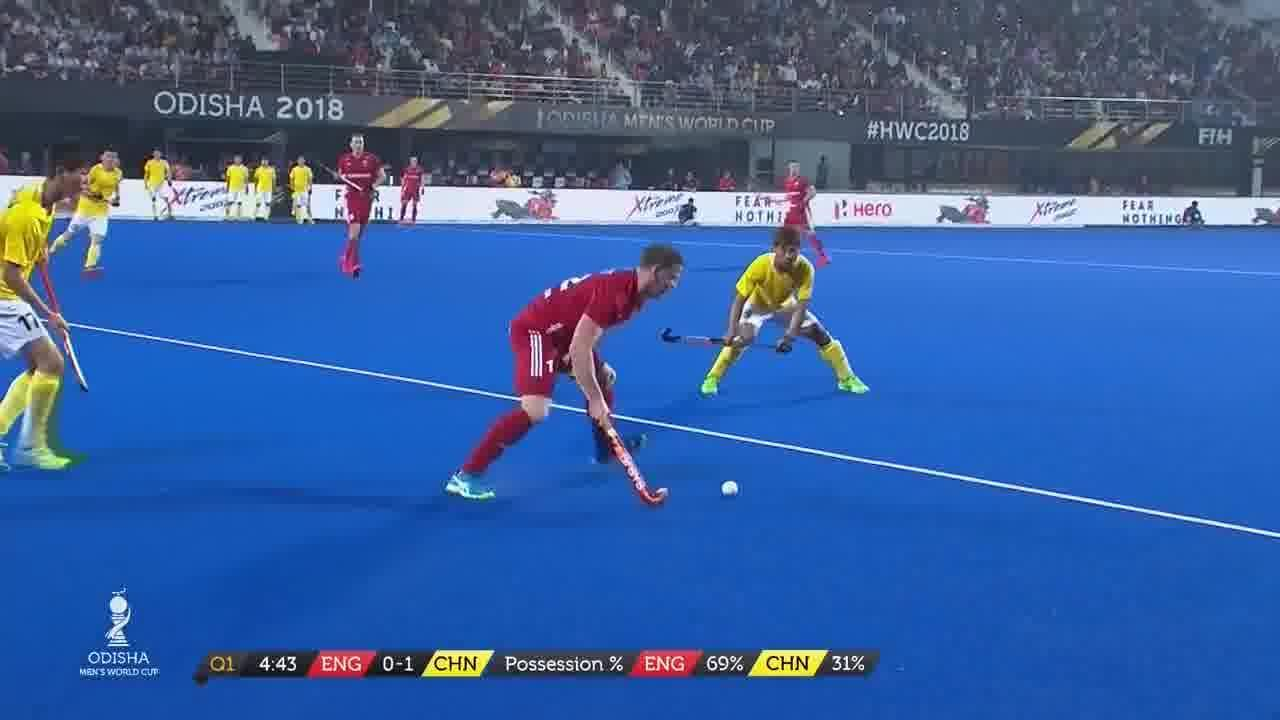ball: (720, 474, 742, 507)
